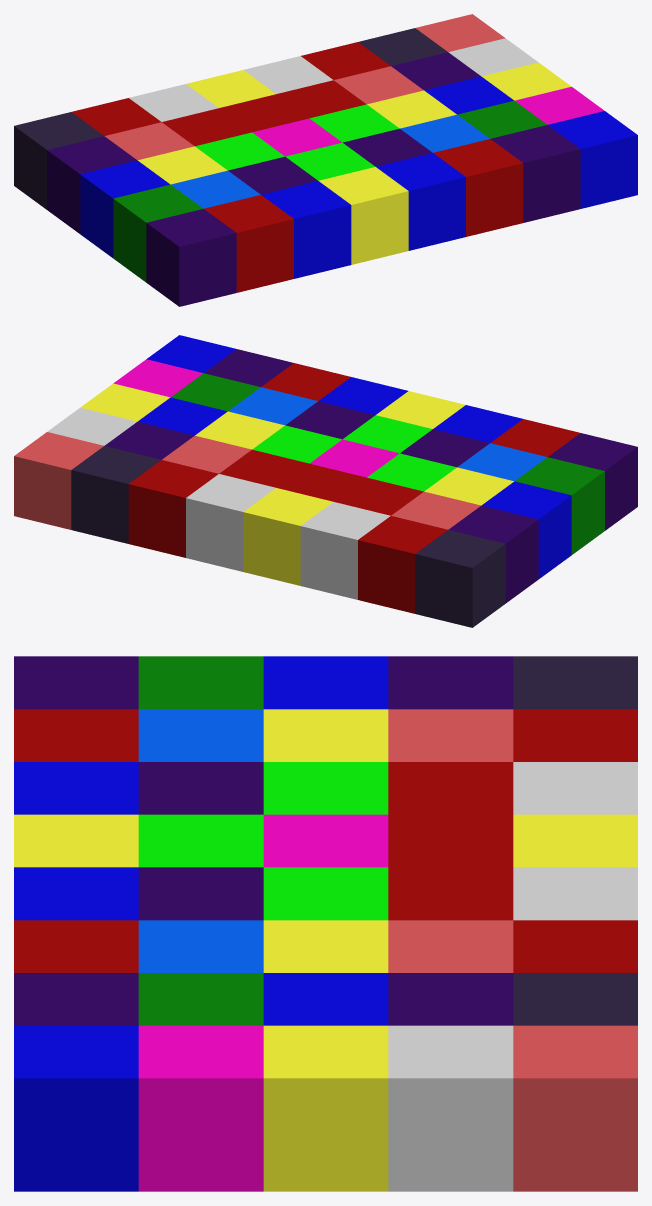
The model's file is hub-color-rug.obj.
3 views of the same model, one above another, from view 1: azimuth 30°, elevation 25°; view 2: azimuth 150°, elevation 25°; view 3: azimuth 270°, elevation 25° (orthographic). The views are drawn at different scales.
Parts seen in each view (by area): view 1: hub-color-rug; view 2: hub-color-rug; view 3: hub-color-rug.
Part boxes in pixels (left/top/right/bottom): hub-color-rug: left=14, top=14, right=637, bottom=306; hub-color-rug: left=14, top=335, right=637, bottom=627; hub-color-rug: left=14, top=656, right=637, bottom=1191.
Bounding box in the file's own units: 8 × 1 × 5.
1 material, 1 textured.
